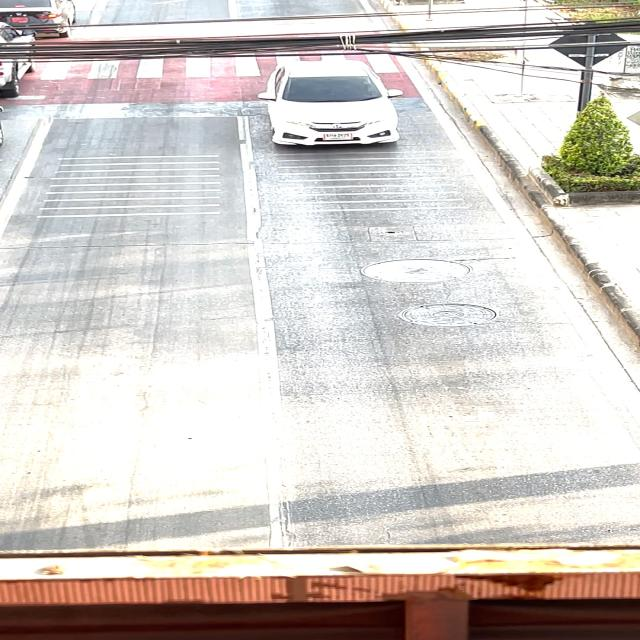car: (246, 40, 416, 174)
